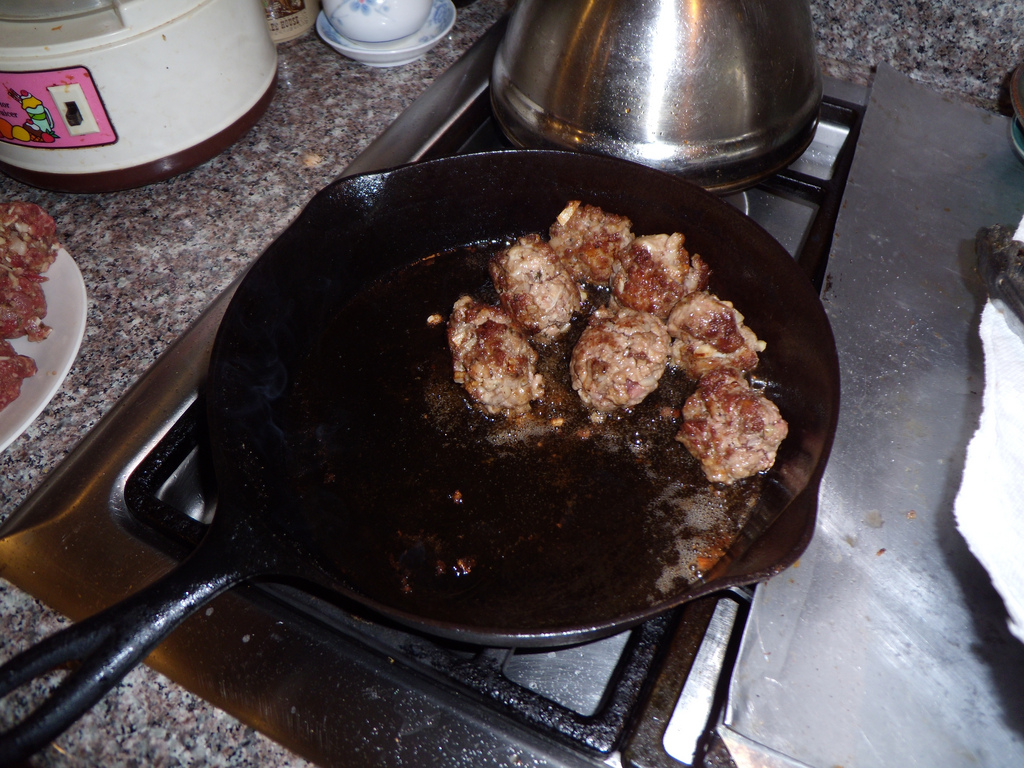meatballs: (445, 189, 791, 493)
